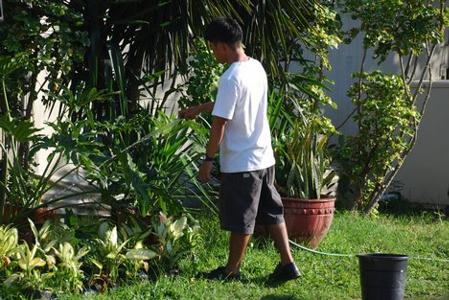person: (180, 18, 308, 285)
